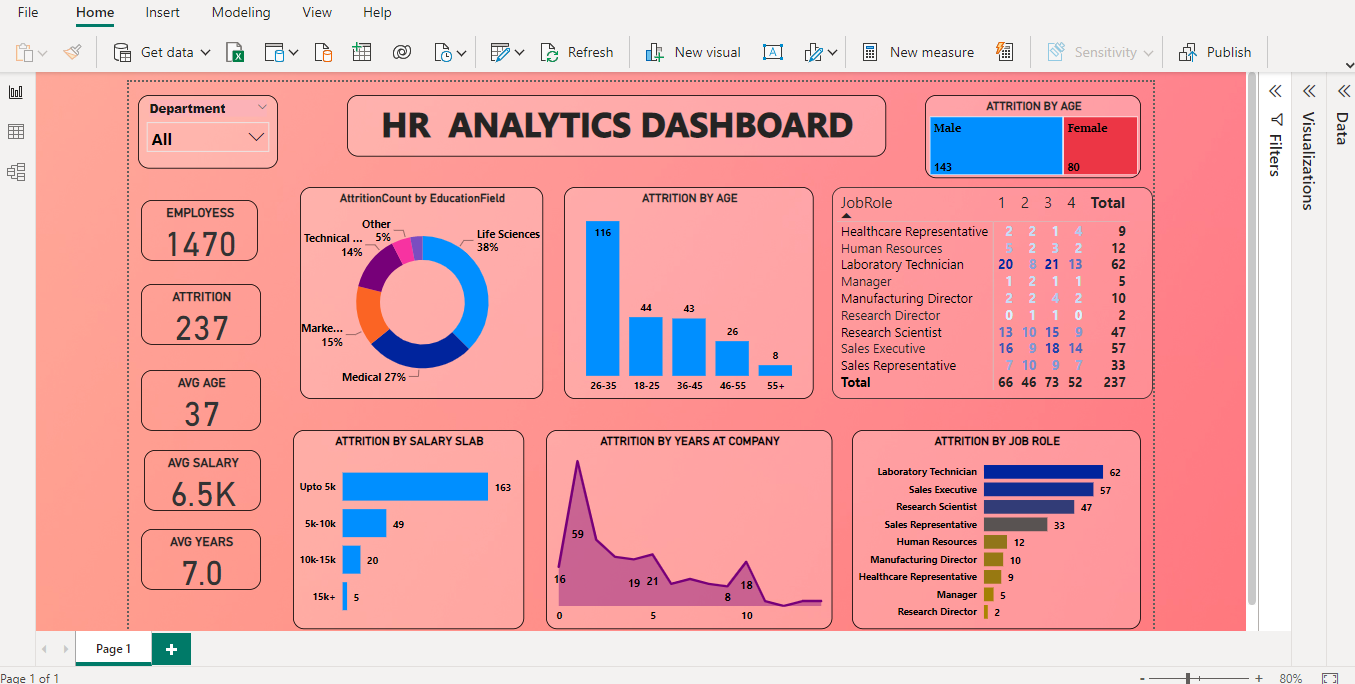

The page's visual inventory and layout, read from the dashboard file:
{"tool":"powerbi","page":{"name":"Page 1","canvas":[1280,720],"ordinal":0},"visuals":[{"type":"card","title":"EMPLOYESS","fields":{"Values":["CountNonNull(HR_Analytics.EmpID)"]},"box":[15.1,147.8,146.1,75.6],"z":0},{"type":"card","title":"ATTRITION","fields":{"Values":["Sum(HR_Analytics.AttritionCount)"]},"box":[15.1,252,149.5,75.6],"z":1000},{"type":"card","title":"AVG AGE","fields":{"Values":["Avg(HR_Analytics.Age)"]},"box":[15.1,359.5,149.5,75.6],"z":2000},{"type":"card","title":"AVG SALARY","fields":{"Values":["Avg(HR_Analytics.MonthlyIncome)"]},"box":[18.5,460.3,146.1,75.6],"z":3000},{"type":"card","title":"AVG YEARS","fields":{"Values":["Avg(HR_Analytics.YearsAtCompany)"]},"box":[15.1,559.4,149.5,75.6],"z":4000},{"type":"donutChart","title":"AttritionCount by EducationField","fields":{"Category":["HR_Analytics.EducationField"],"Y":["Sum(HR_Analytics.AttritionCount)"]},"box":[213.3,131,304,265.4],"z":5000},{"type":"stackedAreaChart","title":"ATTRITION BY YEARS AT COMPANY","fields":{"Y":["Sum(HR_Analytics.AttritionCount)"],"Category":["HR_Analytics.YearsAtCompany"]},"box":[520.7,435.1,357.8,248.6],"z":6000},{"type":"pivotTable","fields":{"Rows":["HR_Analytics.JobRole"],"Columns":["HR_Analytics.JobSatisfaction"],"Values":["Sum(HR_Analytics.AttritionCount)"]},"box":[878.5,131,401.5,265.4],"z":7000},{"type":"barChart","title":"ATTRITION BY SALARY SLAB","fields":{"Category":["HR_Analytics.SalarySlab"],"Y":["Sum(HR_Analytics.AttritionCount)"]},"box":[204.9,435.1,288.9,248.6],"z":7001},{"type":"barChart","title":"ATTRITION BY JOB ROLE ","fields":{"Category":["HR_Analytics.JobRole"],"Y":["Sum(HR_Analytics.AttritionCount)"]},"box":[903.7,435.1,361.2,248.6],"z":7002},{"type":"columnChart","title":"ATTRITION BY AGE","fields":{"Category":["HR_Analytics.AgeGroup"],"Y":["Sum(HR_Analytics.AttritionCount)"]},"box":[544.3,131,312.4,265.4],"z":7003},{"type":"treemap","title":"ATTRITION BY AGE","fields":{"Group":["HR_Analytics.Gender"],"Values":["Sum(HR_Analytics.AttritionCount)"]},"box":[994.4,16.8,270.4,104.1],"z":7004},{"type":"textbox","box":[272.1,16.8,673.6,77.3],"z":7006},{"type":"slicer","fields":{"Values":["HR_Analytics.Department"]},"box":[14.5,0,233.3,121.7],"z":7007}]}

Visuals, with their boxes on the page's 1280x720 design canvas (x1, y1, x2, y2). These are canvas units, not pixel positions in the 1355x684 screenshot, which may show the page scaled, cropped or inside an application window:
"EMPLOYESS" card: {"left": 15, "top": 148, "right": 161, "bottom": 223}
"ATTRITION" card: {"left": 15, "top": 252, "right": 165, "bottom": 328}
"AVG AGE" card: {"left": 15, "top": 360, "right": 165, "bottom": 435}
"AVG SALARY" card: {"left": 18, "top": 460, "right": 165, "bottom": 536}
"AVG YEARS" card: {"left": 15, "top": 559, "right": 165, "bottom": 635}
"AttritionCount by EducationField" donutChart: {"left": 213, "top": 131, "right": 517, "bottom": 396}
"ATTRITION BY YEARS AT COMPANY" stackedAreaChart: {"left": 521, "top": 435, "right": 878, "bottom": 684}
pivotTable - HR_Analytics.JobRole x HR_Analytics.JobSatisfaction: {"left": 878, "top": 131, "right": 1280, "bottom": 396}
"ATTRITION BY SALARY SLAB" barChart: {"left": 205, "top": 435, "right": 494, "bottom": 684}
"ATTRITION BY JOB ROLE " barChart: {"left": 904, "top": 435, "right": 1265, "bottom": 684}
"ATTRITION BY AGE" columnChart: {"left": 544, "top": 131, "right": 857, "bottom": 396}
"ATTRITION BY AGE" treemap: {"left": 994, "top": 17, "right": 1265, "bottom": 121}
textbox: {"left": 272, "top": 17, "right": 946, "bottom": 94}
slicer - HR_Analytics.Department: {"left": 14, "top": 0, "right": 248, "bottom": 122}
